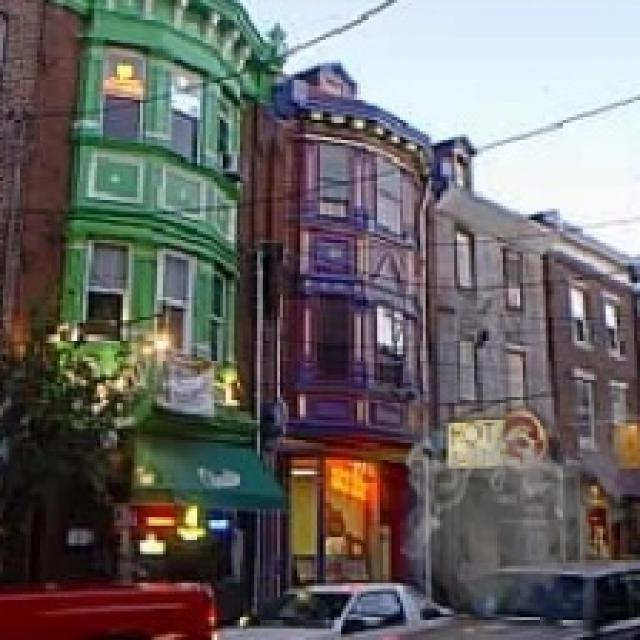Smoke: (397, 357, 637, 634)
